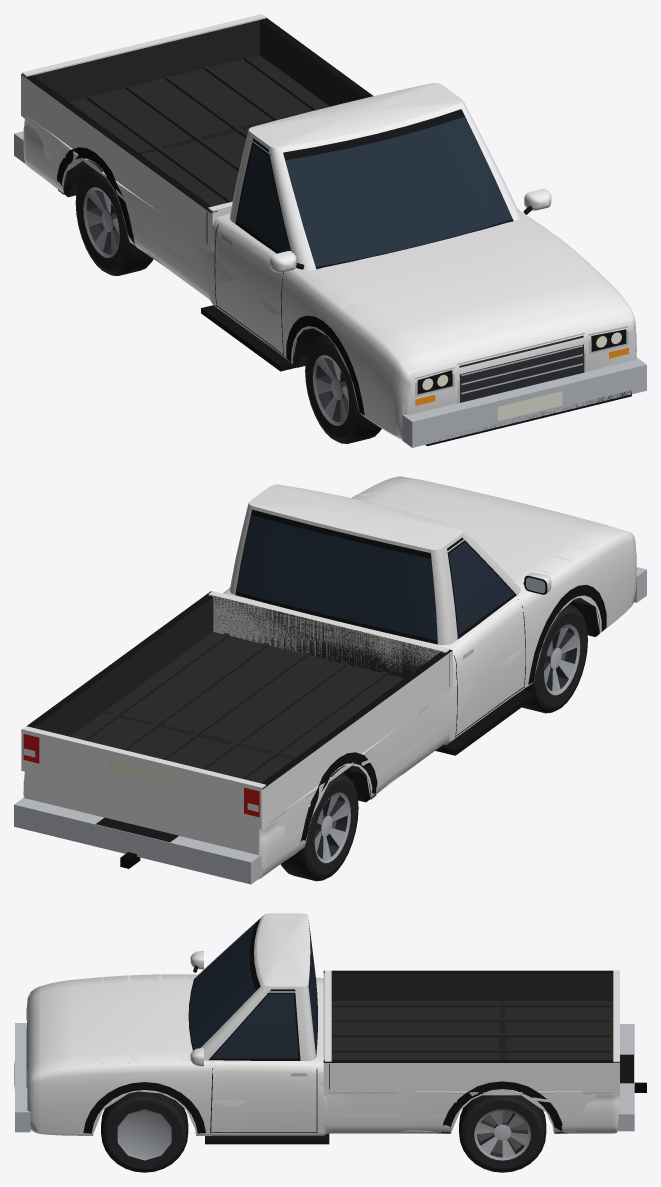
File: pickup.glb
3 views of the same model, one above another, from view 1: azimuth 30°, elevation 25°; view 2: azimuth 150°, elevation 25°; view 3: azimuth 270°, elevation 25° (orthographic). The views are drawn at different scales.
Parts seen in each view (by area): view 1: Body, BodyLod, Wheel_RR, Wheel_FR; view 2: Body, BodyLod, Wheel_RR, Wheel_FR; view 3: Body, Wheel_RL, BodyLod, WheelLod_FL, Wheel_FL.
Part boxes in pixels (x1,y1,x2,y2): Body: [14, 14, 646, 447]; BodyLod: [37, 90, 636, 420]; Wheel_RR: [75, 168, 153, 275]; Wheel_FR: [305, 334, 381, 443]; Body: [14, 476, 646, 884]; BodyLod: [23, 491, 613, 857]; Wheel_RR: [280, 773, 358, 881]; Wheel_FR: [522, 604, 587, 713]; Body: [15, 913, 646, 1144]; Wheel_RL: [459, 1095, 546, 1172]; BodyLod: [14, 921, 619, 1133]; WheelLod_FL: [103, 1098, 186, 1168]; Wheel_FL: [101, 1091, 188, 1172].
Bounding box in the file's own units: 2.23 × 1.81 × 5.66.
Materials: 8 (6 with a texture image).
